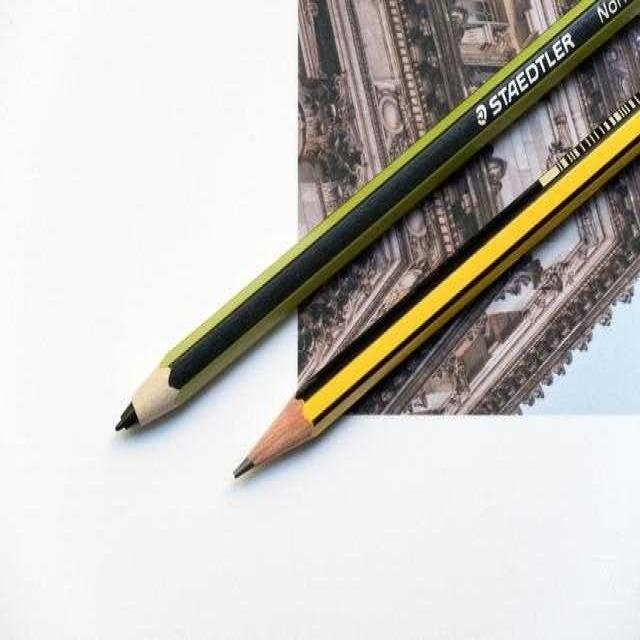pencil: (94, 0, 639, 472), (221, 86, 639, 495)
